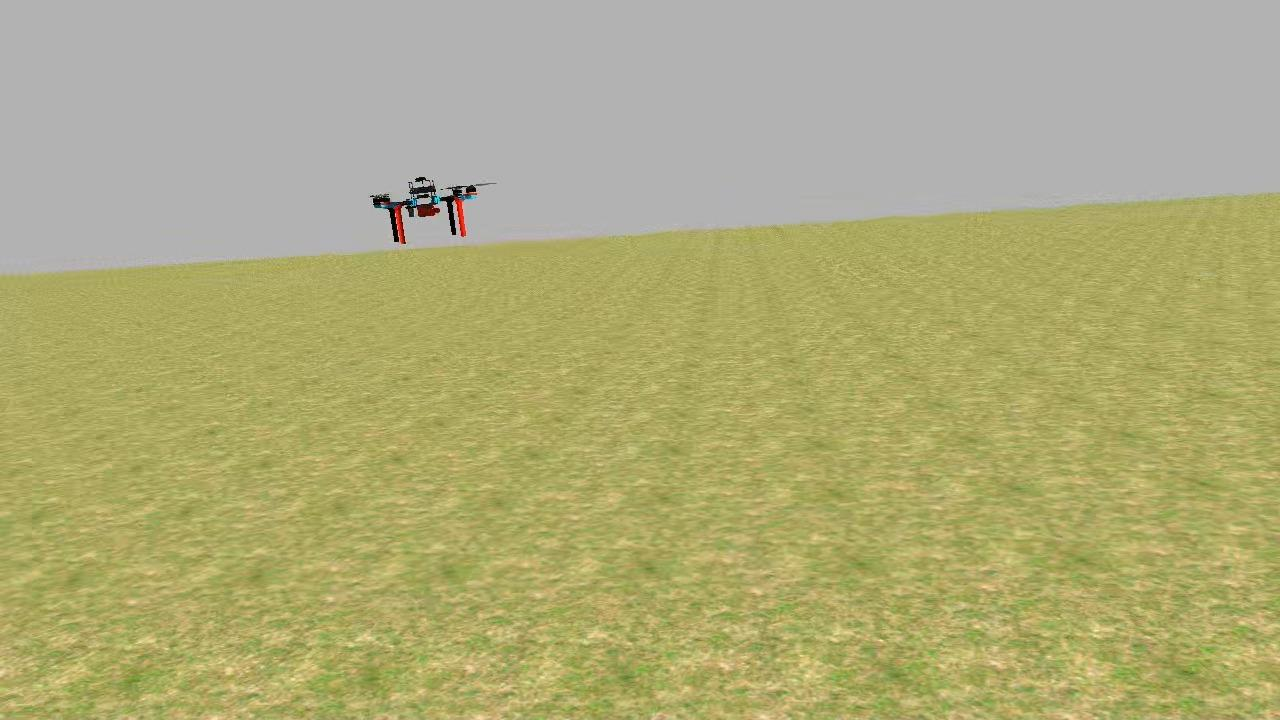UAV: (367, 166, 480, 253)
